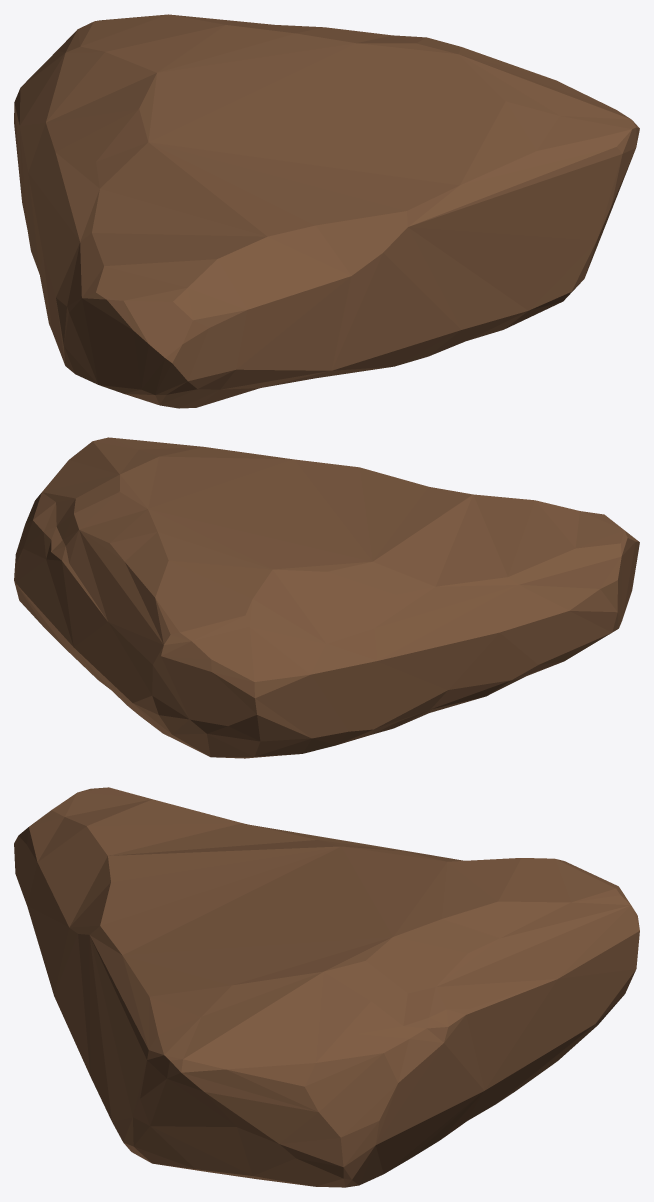
Rendered from zone2-s2.glb.
3 views of the same model, one above another, from view 1: azimuth 30°, elevation 25°; view 2: azimuth 150°, elevation 25°; view 3: azimuth 270°, elevation 25° (orthographic). The views are drawn at different scales.
Visible parts, largest first — view 1: rock-sandstone-flat-a.001; view 2: rock-sandstone-flat-a.001; view 3: rock-sandstone-flat-a.001.
Boxes of the visible parts, x1,y1,x2,y2 form: rock-sandstone-flat-a.001: (14,14,639,408); rock-sandstone-flat-a.001: (14,437,639,758); rock-sandstone-flat-a.001: (14,787,639,1187).
Bounding box in the file's own units: 18.52 × 5.93 × 16.91.
